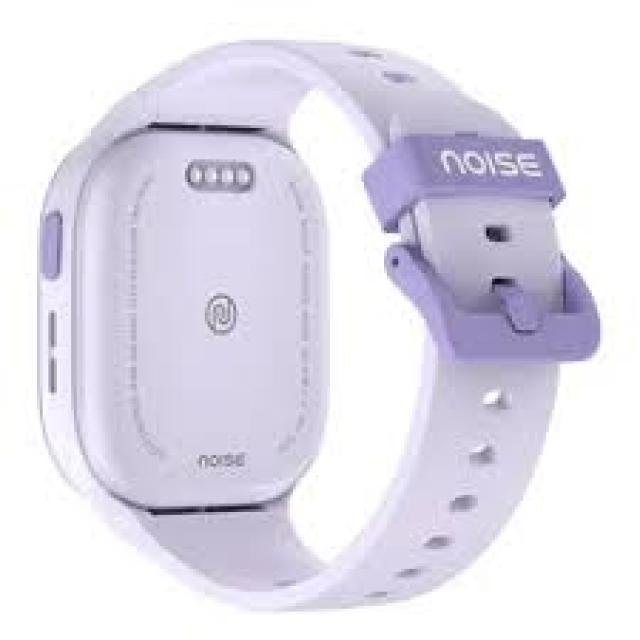objects: (37, 42, 597, 613)
